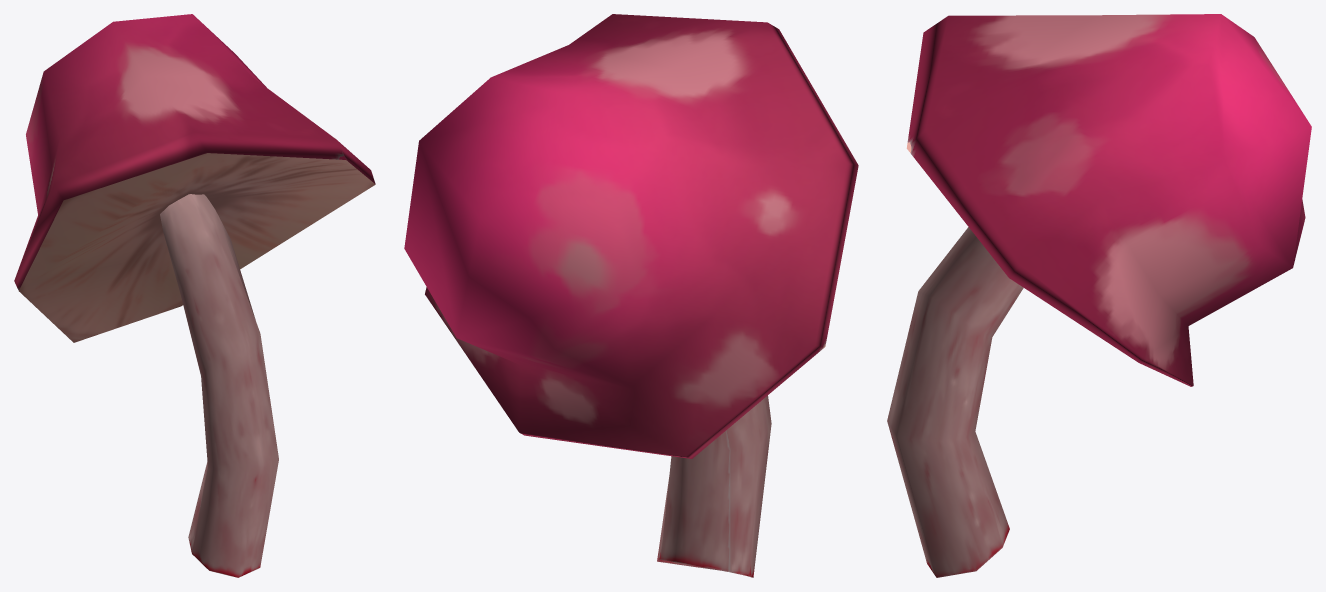
File: PROP_BendShroom_3.fbx
3 views of the same model, side by side, from view 1: azimuth 30°, elevation 25°; view 2: azimuth 150°, elevation 25°; view 3: azimuth 270°, elevation 25° (orthographic). The views are drawn at different scales.
Visible parts, largest first — view 1: PROP_BendShroom_3; view 2: PROP_BendShroom_3; view 3: PROP_BendShroom_3.
Part boxes in pixels (box(x1,y1,x2,y2)): PROP_BendShroom_3: box(14, 14, 375, 577); PROP_BendShroom_3: box(404, 14, 858, 577); PROP_BendShroom_3: box(887, 14, 1311, 577).
Bounding box in the file's own units: 180 × 252 × 176.
1 material, 1 textured.
